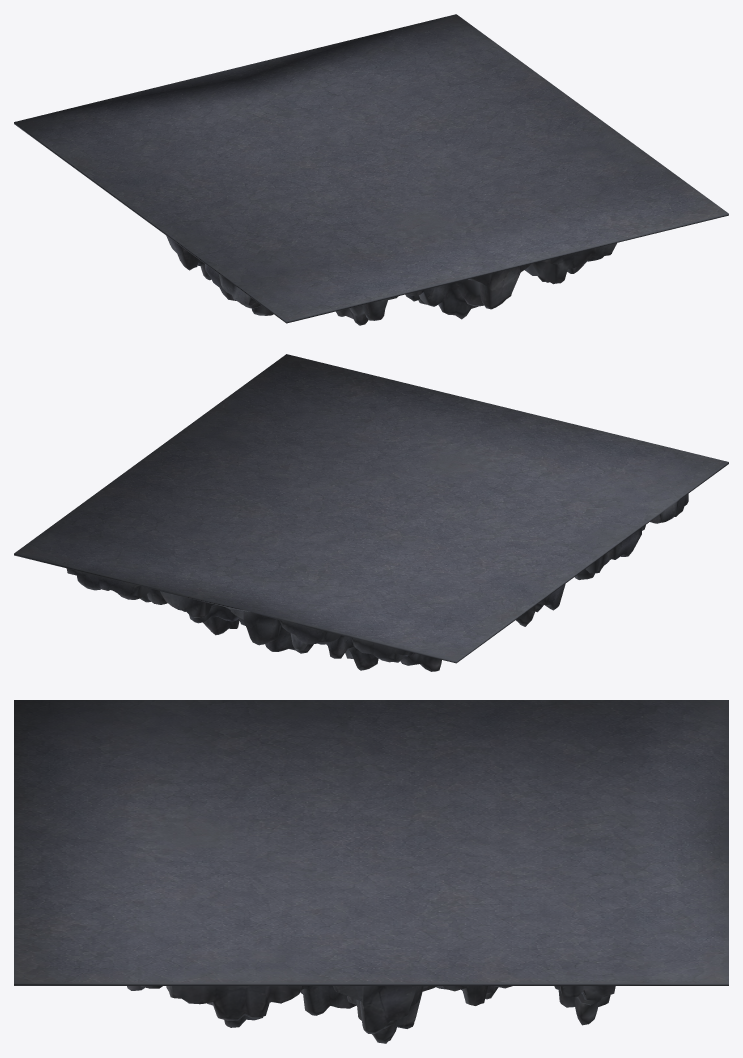
Rendered from table-base-tripo-c2e5e3bf-smartuv-tex2k-pbr.glb.
3 views of the same model, one above another, from view 1: azimuth 30°, elevation 25°; view 2: azimuth 150°, elevation 25°; view 3: azimuth 270°, elevation 25° (orthographic). The views are drawn at different scales.
Parts seen in each view (by area): view 1: tripo_node_9af0b8e4-1db5-4bb2-a149-caef9f121f72; view 2: tripo_node_9af0b8e4-1db5-4bb2-a149-caef9f121f72; view 3: tripo_node_9af0b8e4-1db5-4bb2-a149-caef9f121f72.
Boxes of the visible parts, left/top/right/bottom form: tripo_node_9af0b8e4-1db5-4bb2-a149-caef9f121f72: left=14, top=14, right=728, bottom=325; tripo_node_9af0b8e4-1db5-4bb2-a149-caef9f121f72: left=14, top=354, right=728, bottom=671; tripo_node_9af0b8e4-1db5-4bb2-a149-caef9f121f72: left=14, top=700, right=728, bottom=1043.
Size of the model in its own units: 0.9174 by 0.2011 by 0.9787.
Materials: 1 (1 with a texture image).
